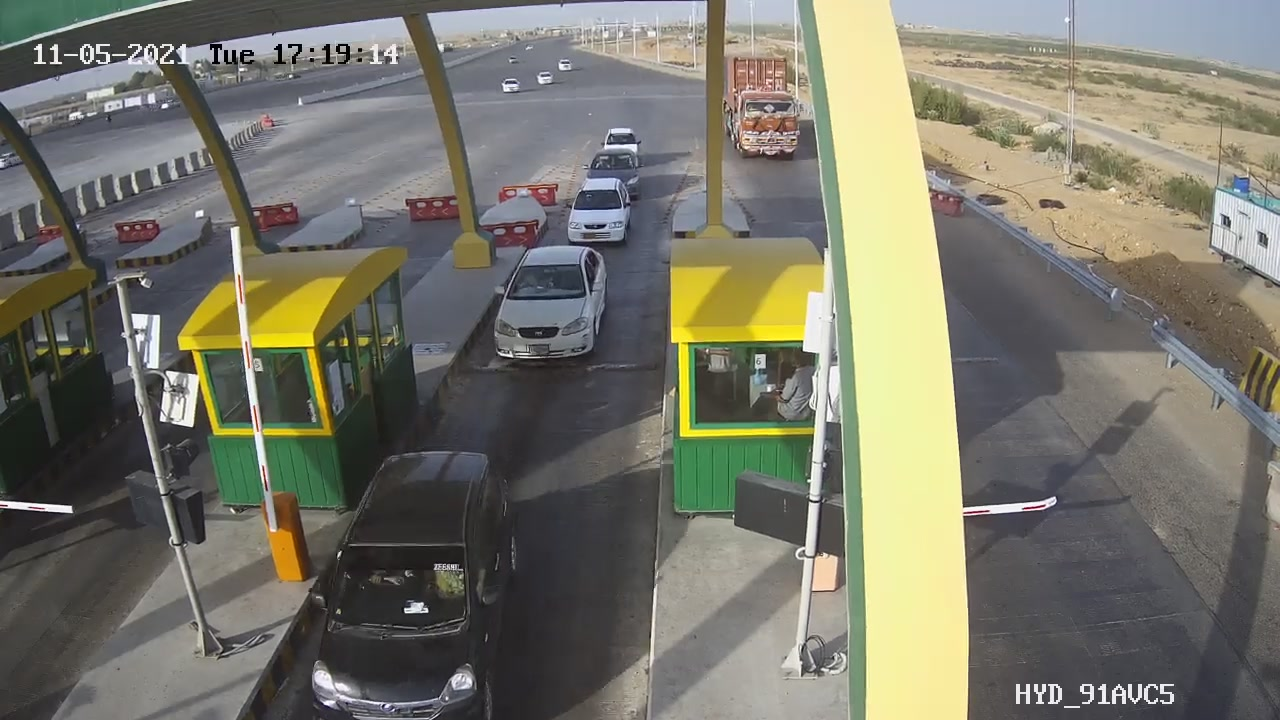F1: (477, 234, 626, 377), (555, 173, 652, 256)
